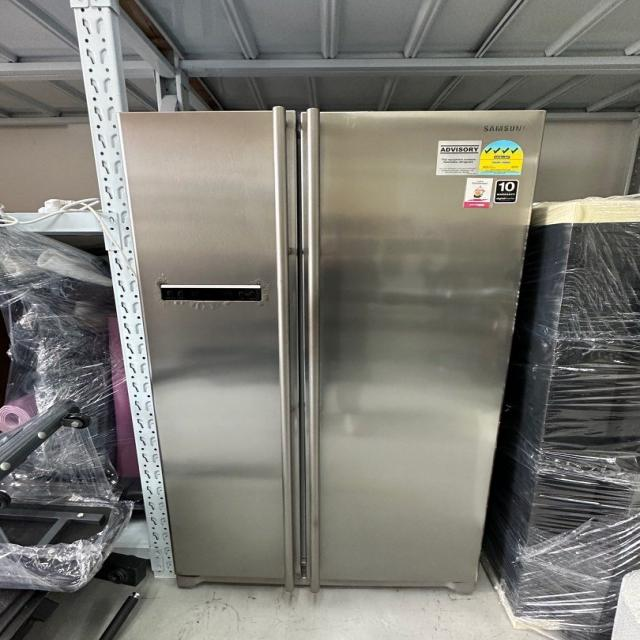refrigerator: (121, 107, 548, 594)
